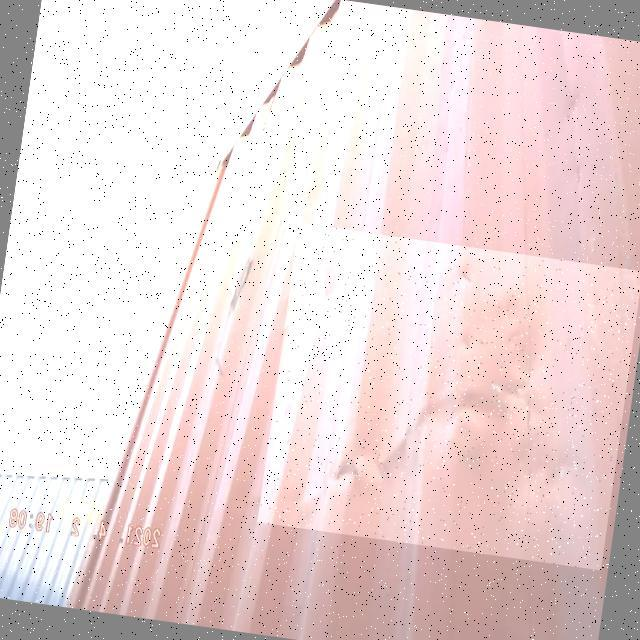Minor-Dent: (257, 223, 640, 570)
